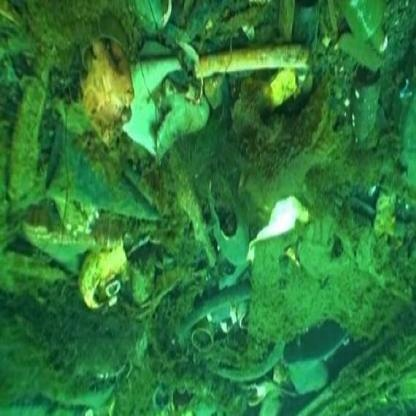rod: (180, 43, 323, 78)
